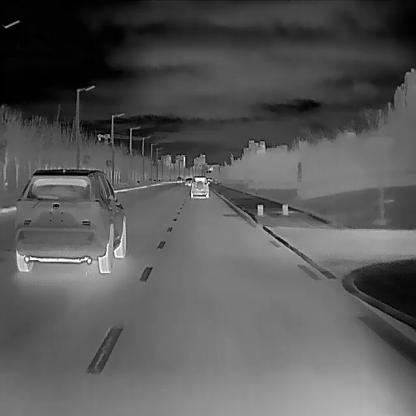car: (13, 166, 126, 274), (190, 175, 208, 198), (185, 177, 194, 186)
